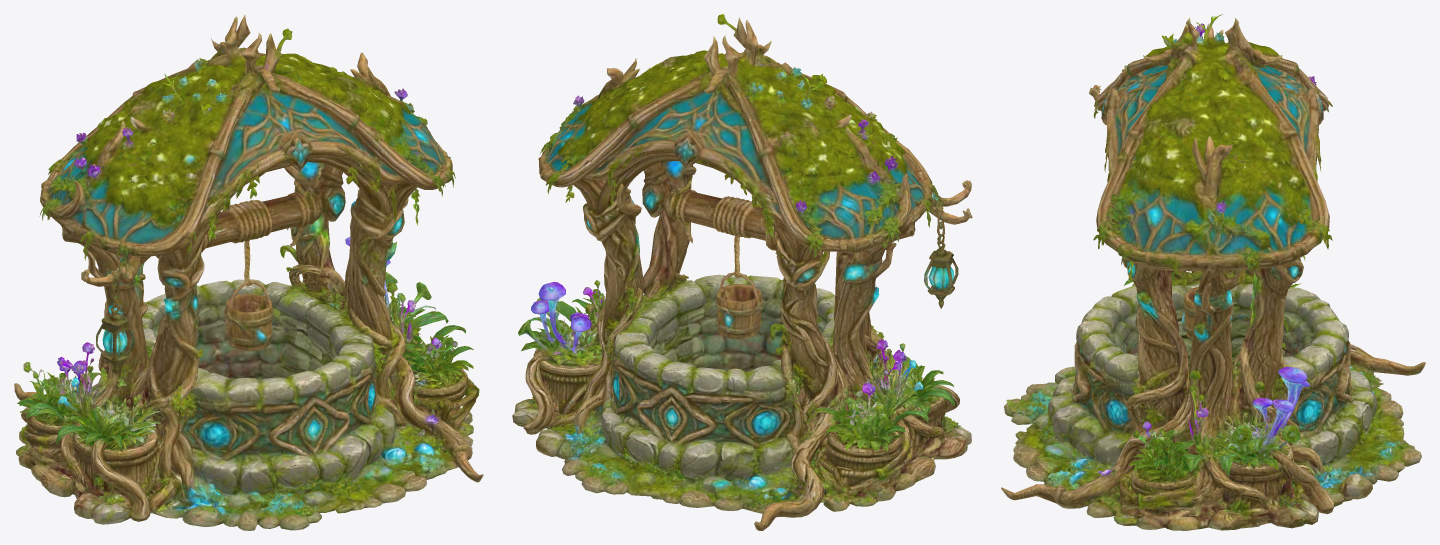
Rendered from community-well.glb.
3 renders of one model, left to right at view 1: azimuth 30°, elevation 25°; view 2: azimuth 150°, elevation 25°; view 3: azimuth 270°, elevation 25°, orthographic. The views are drawn at different scales.
Bounding box in the file's own units: 1.9 × 1.81 × 1.66.
Materials: 1 (1 with a texture image).
